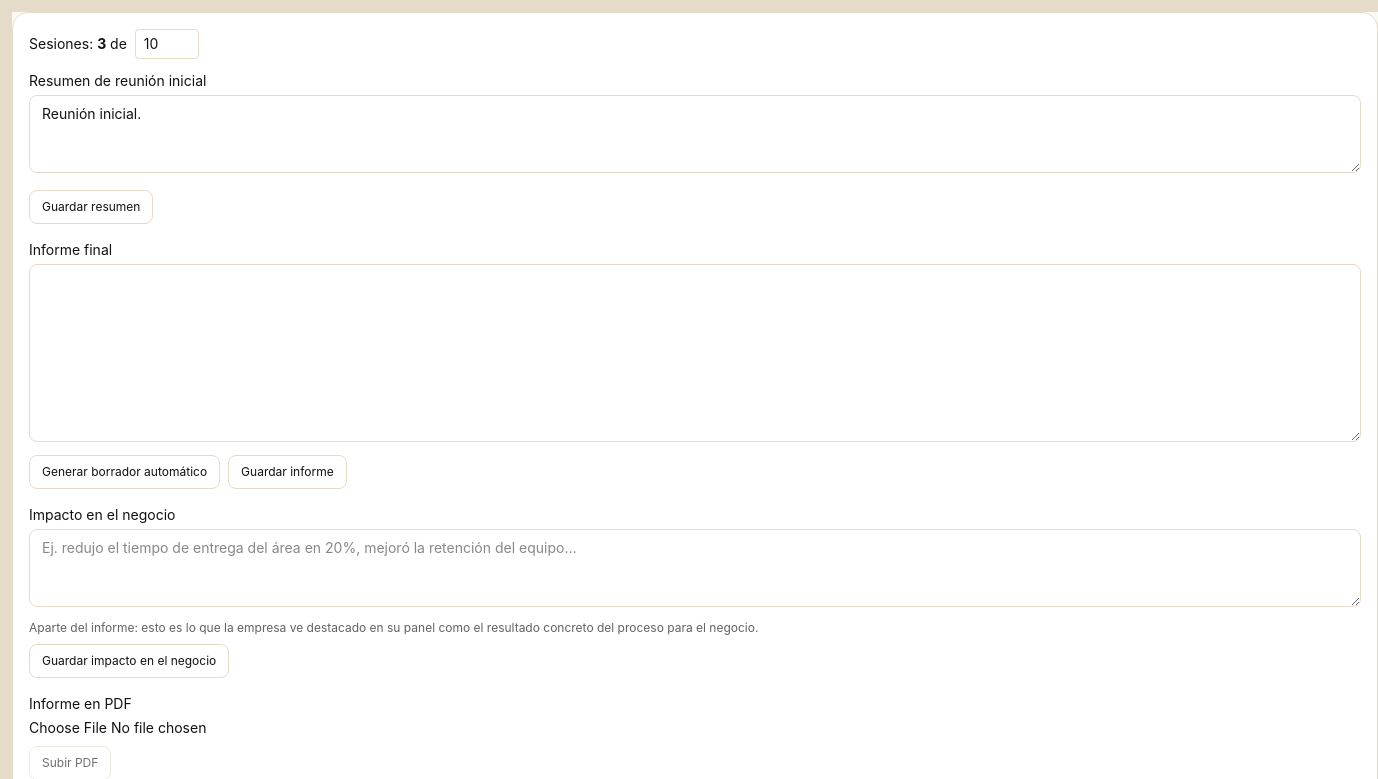
Test case: CicloTab (coach) › shows the server error and reverts the input when the new total is rejected
Replace the text in the number field with "1" at x=167, y=44, box [135,29,199,59]
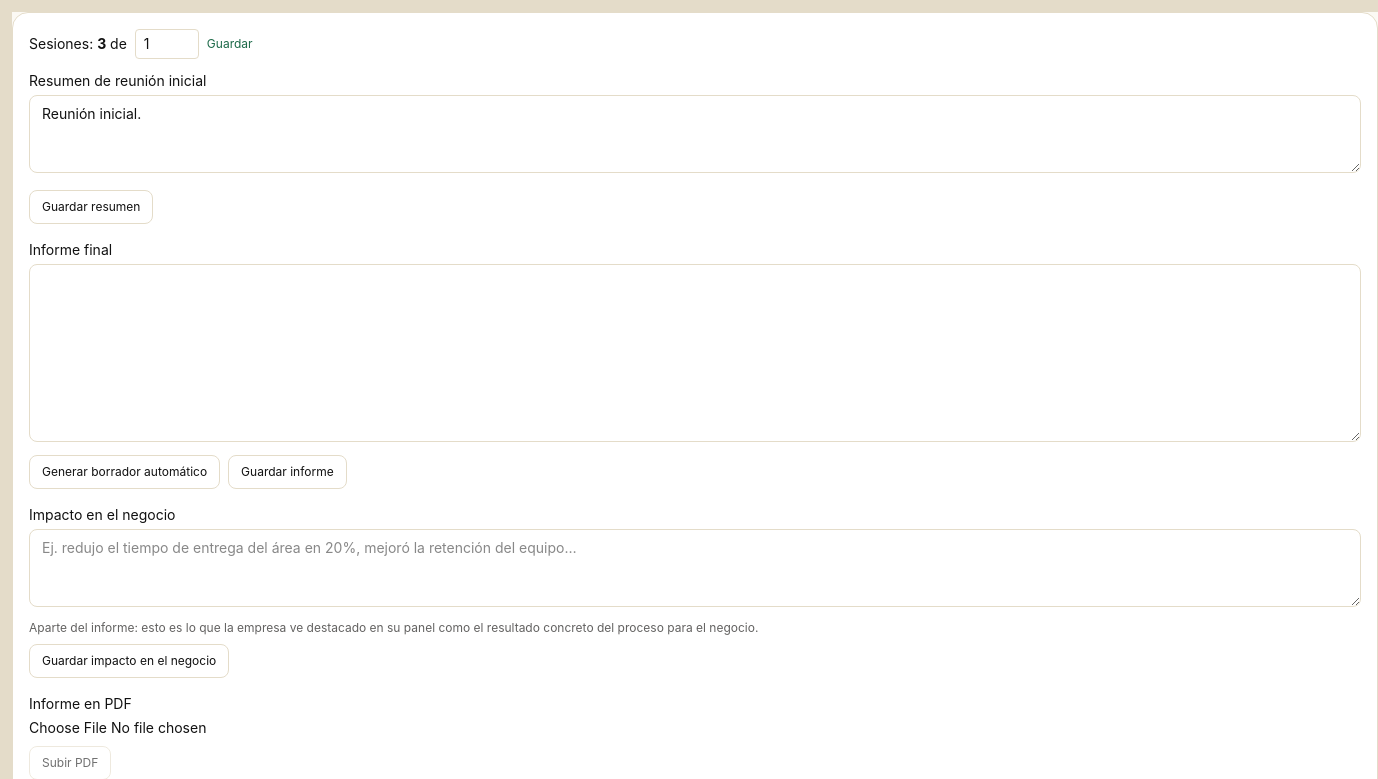
Click the button "Guardar" at x=230, y=44, box [207,36,252,52]
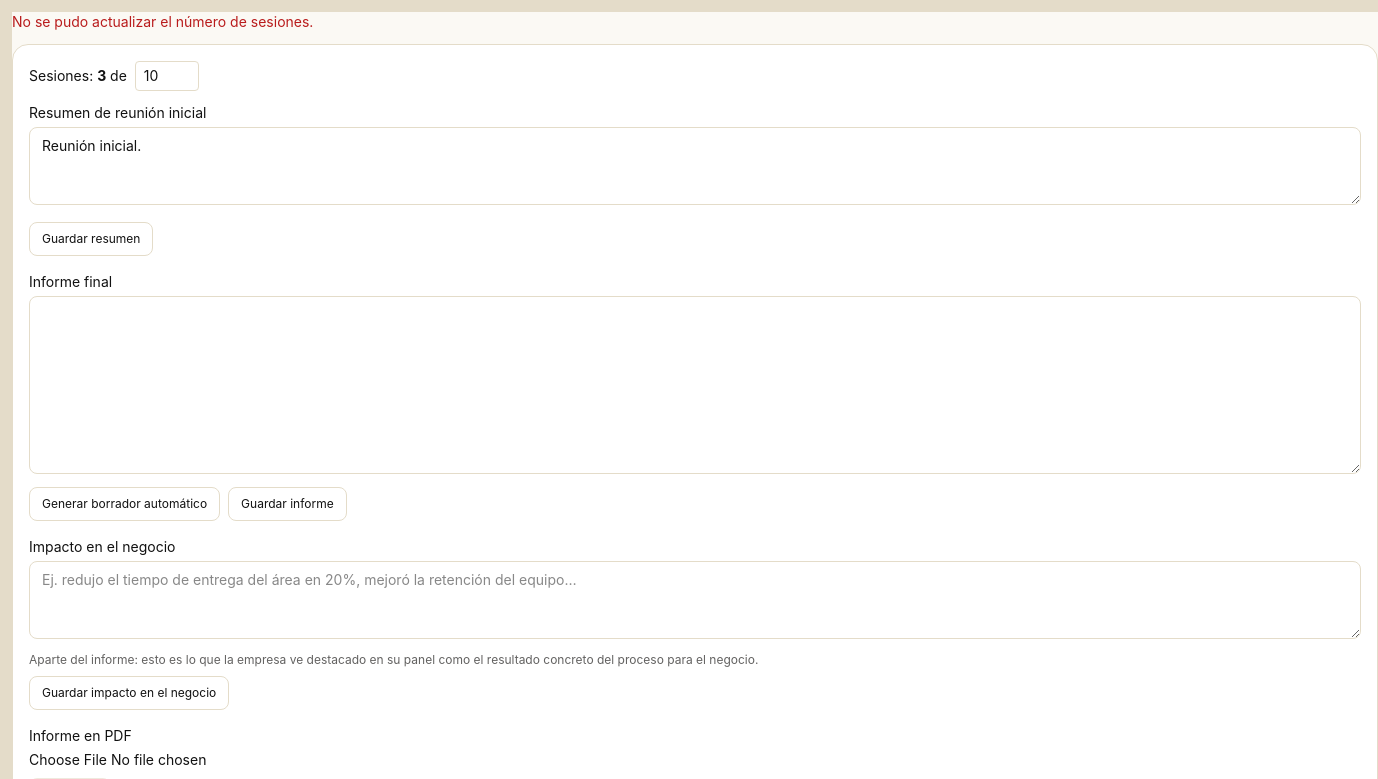
Check: the text "No se pudo actualizar el número de sesiones." is shown, box [12,13,313,30]
Check: the number field holds "10", box [135,61,199,91]
